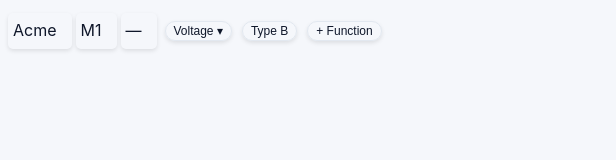
Test: preserves a failed save for retry
This screenshot has width=616, height=160.
Click the button named "Edit model: M1" at (96, 31), box left=76, top=13, right=116, bottom=49
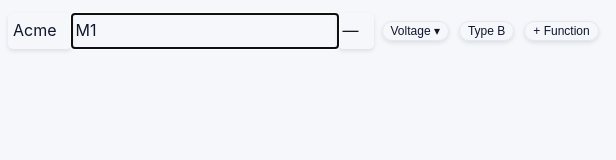
Replace the text in the field named "model" with "M2" at (204, 31), box left=70, top=13, right=338, bottom=49
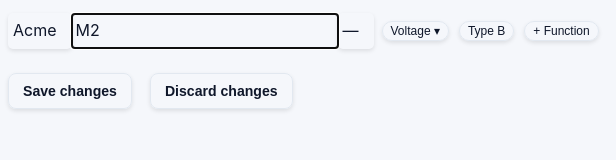
Click the button "Save changes" at (70, 91), box left=8, top=73, right=132, bottom=109
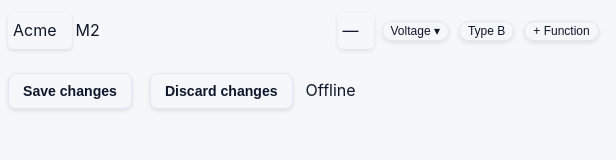
Check: the message reads "Offline", box left=306, top=80, right=356, bottom=100
